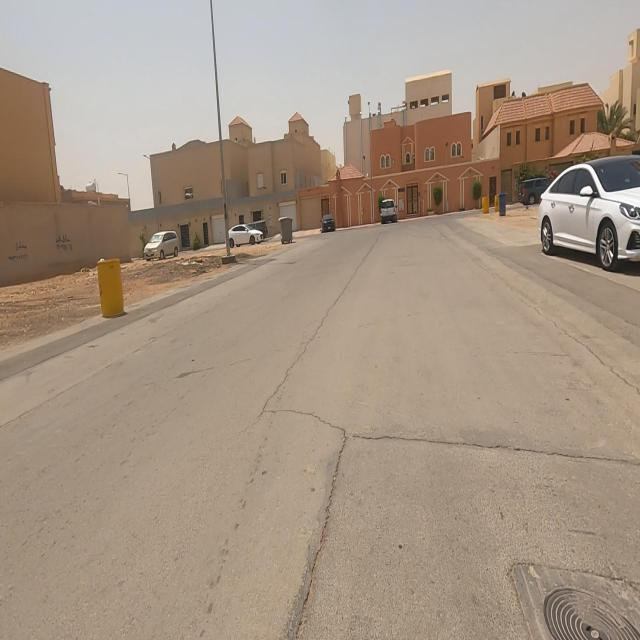Graffiti: (8, 242, 28, 268), (56, 235, 74, 255)
